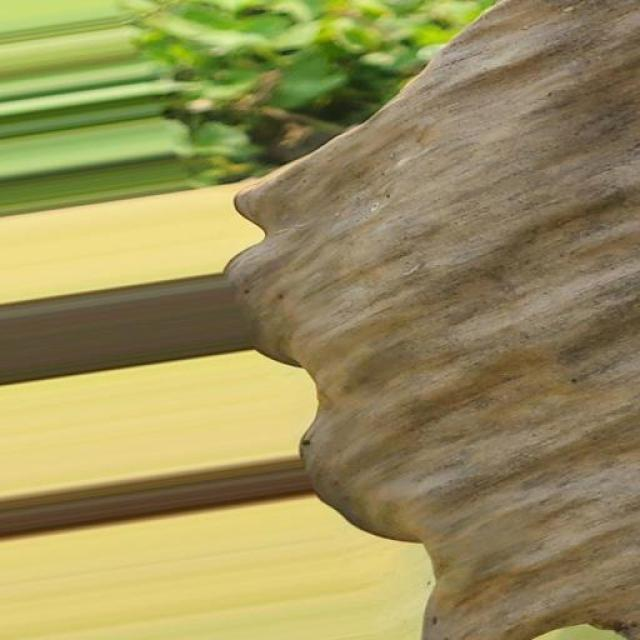Bract_mosaic_virus: (225, 1, 640, 640)
